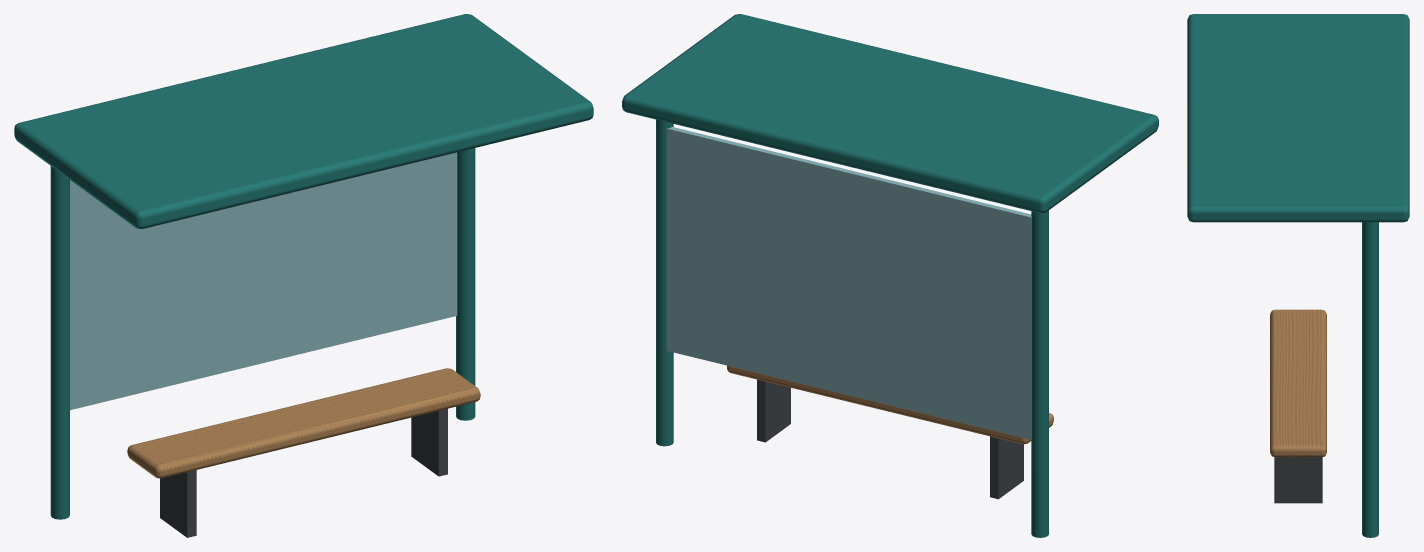
Rendered from shelter-b86035e5cd5a.glb.
3 renders of one model, left to right at view 1: azimuth 30°, elevation 25°; view 2: azimuth 150°, elevation 25°; view 3: azimuth 270°, elevation 25°, orthographic. The views are drawn at different scales.
Visible parts, largest first — view 1: surface_teal, surface_glass, surface_oak, surface_graphite; view 2: surface_glass, surface_teal, surface_graphite, surface_oak; view 3: surface_teal, surface_oak, surface_graphite.
Boxes of the visible parts, <box> form: surface_teal: <box>14,14,593,519</box>; surface_glass: <box>70,152,457,410</box>; surface_oak: <box>127,368,480,478</box>; surface_graphite: <box>160,408,447,537</box>; surface_glass: <box>666,127,1031,439</box>; surface_teal: <box>622,14,1158,537</box>; surface_graphite: <box>757,379,1023,499</box>; surface_oak: <box>727,365,1053,444</box>; surface_teal: <box>1187,14,1409,537</box>; surface_oak: <box>1270,309,1326,457</box>; surface_graphite: <box>1274,457,1322,503</box>.
Size of the model in its own units: 3.1 by 2.48 by 1.48.
5 materials, 2 textured.
